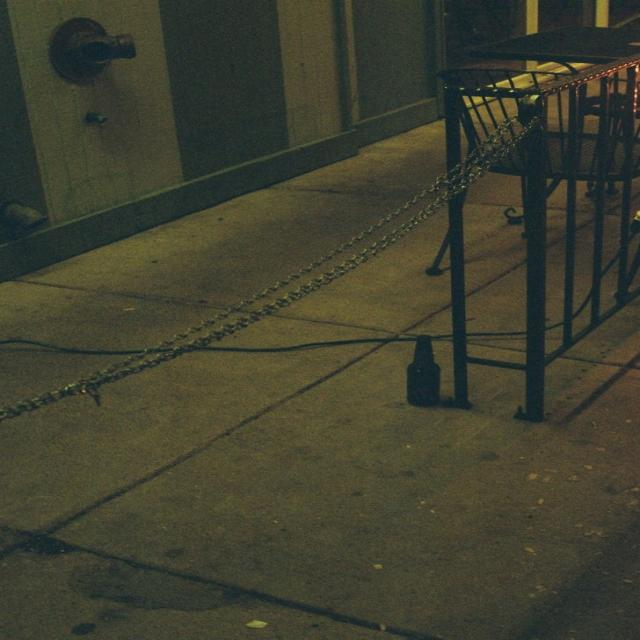Bottle: (363, 325, 466, 407)
